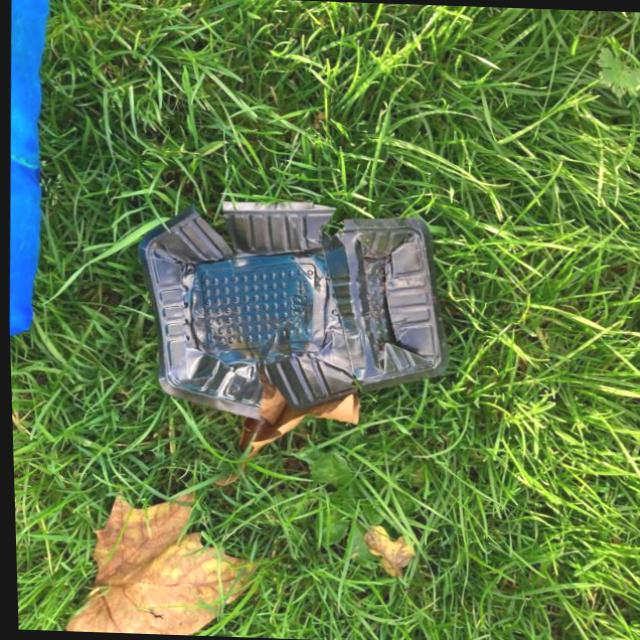Plastic: (128, 192, 458, 427)
